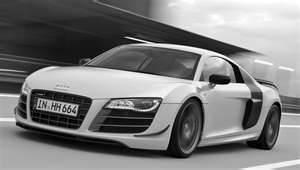car: (15, 37, 284, 160)
